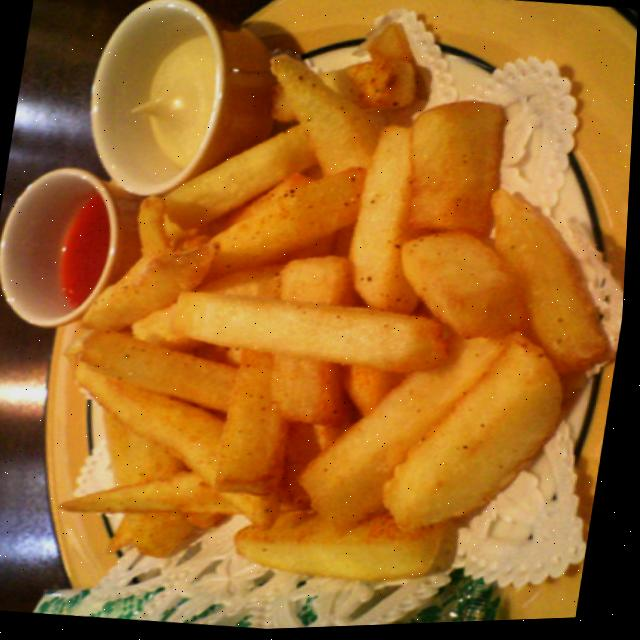炸货点心: (17, 0, 640, 639)
